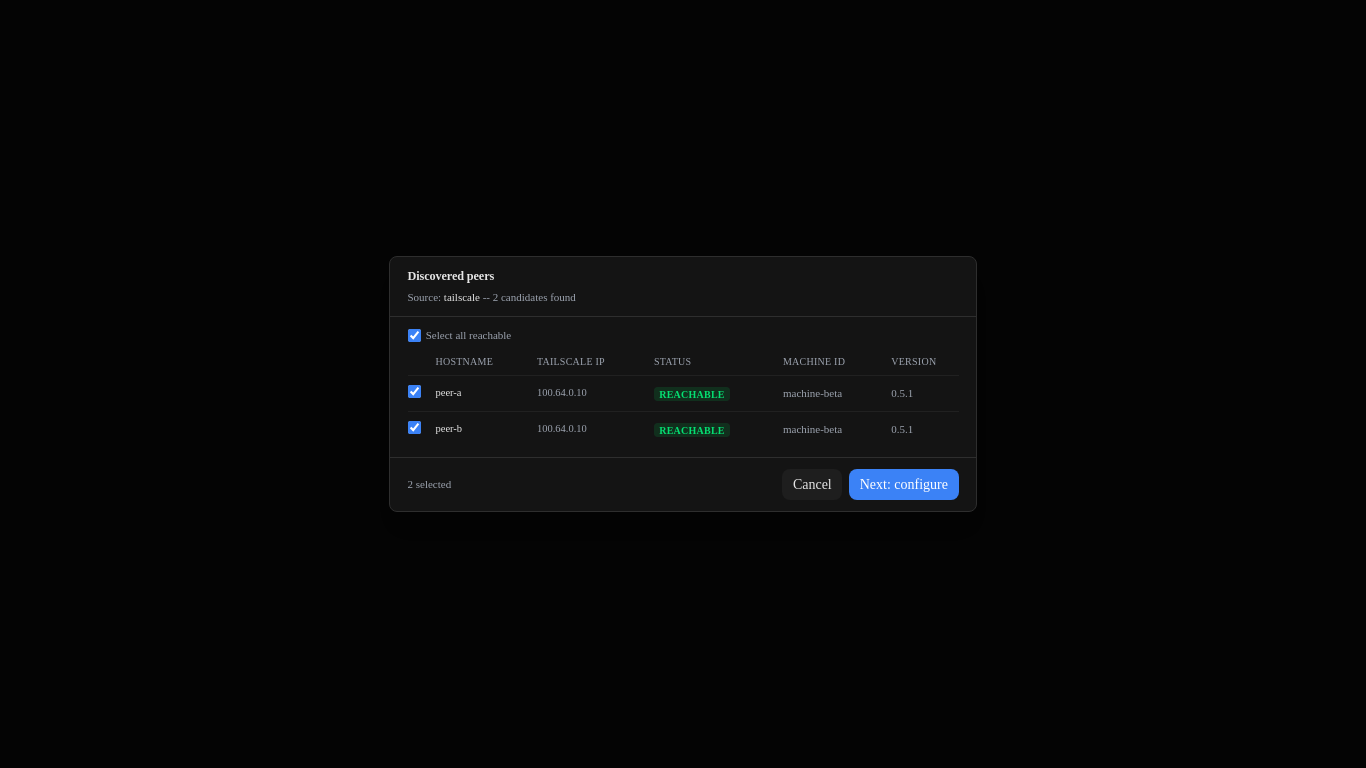
Test: DiscoverPeersDialog › advances to confirm step with selected count
Click the button with test id "discover-next" at (904, 484), box [849,469,959,500]
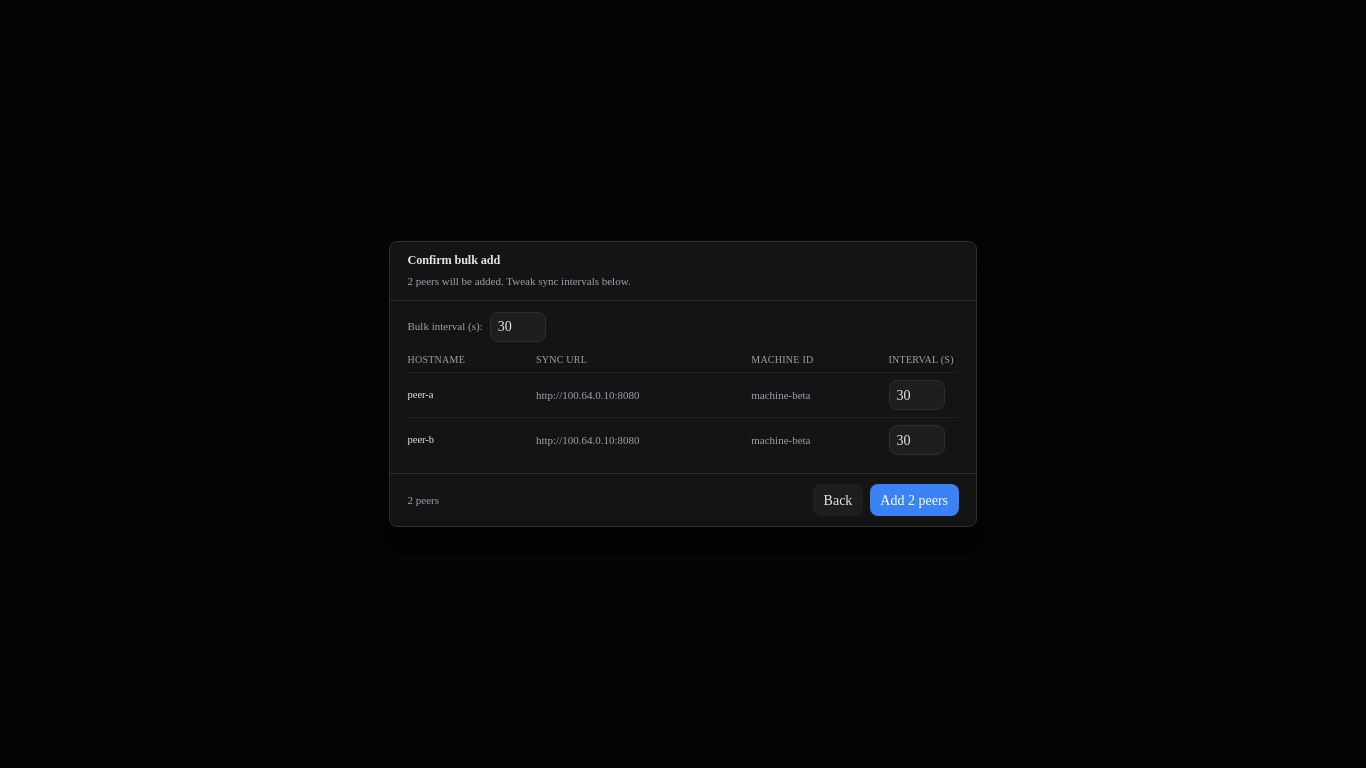
Check: the button with test id "discover-confirm" is shown, box [870,484,958,516]
Check: the text "2 peers will be added. Tweak sync intervals below." is shown, box [408,275,631,287]
